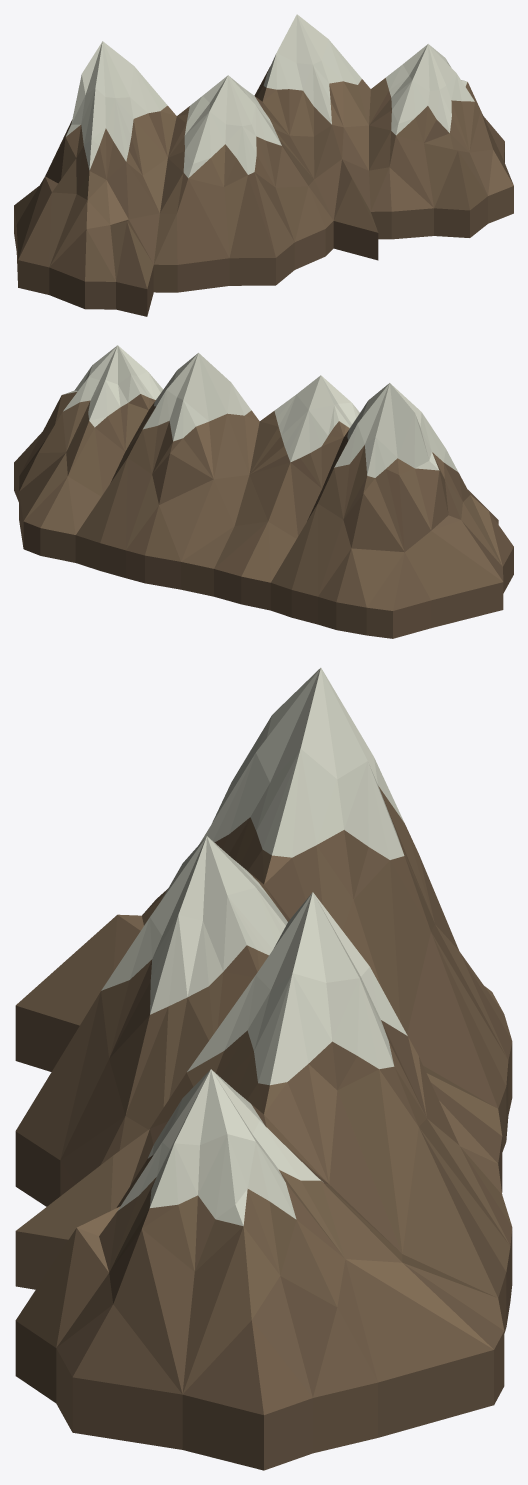
File: alpine_ridge.glb
The picture shows the model from 3 angles, top to bottom: view 1: azimuth 30°, elevation 25°; view 2: azimuth 150°, elevation 25°; view 3: azimuth 270°, elevation 25°; orthographic projection. The views are drawn at different scales.
Parts seen in each view (by area): view 1: alpine_ridge; view 2: alpine_ridge; view 3: alpine_ridge.
Boxes of the visible parts, x1,y1,x2,y2 form: alpine_ridge: (14,14,513,316); alpine_ridge: (14,345,513,638); alpine_ridge: (15,668,512,1470).
Size of the model in its own units: 2.76 by 1.15 by 1.22.
